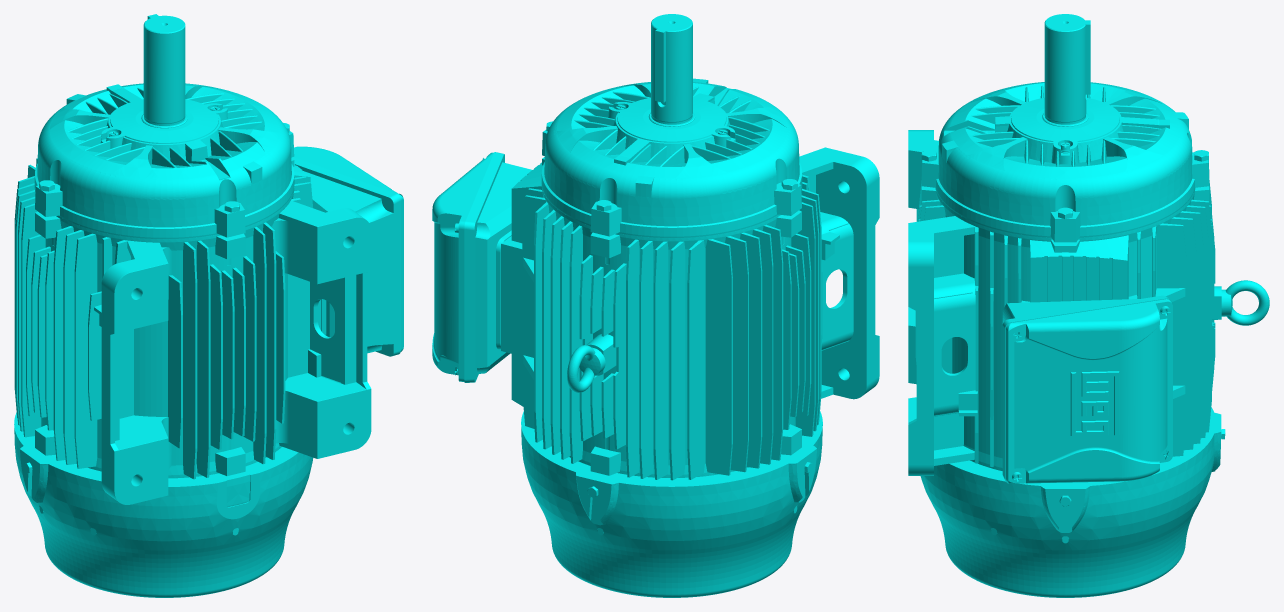
Rendered from MOTOR_WEG_W22_40HP_324T.glb.
3 views of the same model, side by side, from view 1: azimuth 30°, elevation 25°; view 2: azimuth 150°, elevation 25°; view 3: azimuth 270°, elevation 25° (orthographic).
Parts seen in each view (by area): view 1: Node2, Node1, Node3; view 2: Node2, Node1, Node3; view 3: Node2, Node1, Node3.
Boxes of the visible parts, bbox=[...] form: Node2: bbox=[14, 14, 371, 504]; Node1: bbox=[15, 83, 313, 597]; Node3: bbox=[14, 106, 403, 535]; Node2: bbox=[501, 14, 879, 480]; Node1: bbox=[522, 78, 821, 597]; Node3: bbox=[432, 105, 822, 535]; Node2: bbox=[908, 14, 1221, 475]; Node1: bbox=[920, 83, 1214, 597]; Node3: bbox=[934, 142, 1269, 543].
Bounding box in the file's own units: 526 × 752 × 467.
